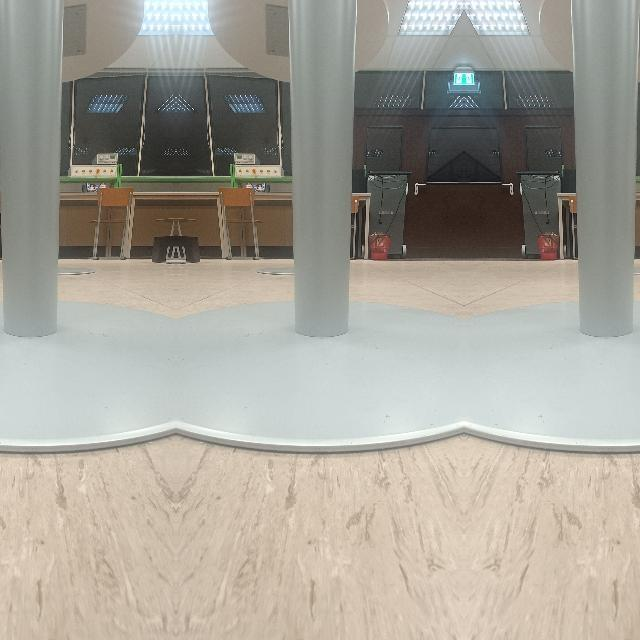obstacle: (178, 112, 464, 452), (463, 112, 640, 451), (0, 112, 171, 451)
